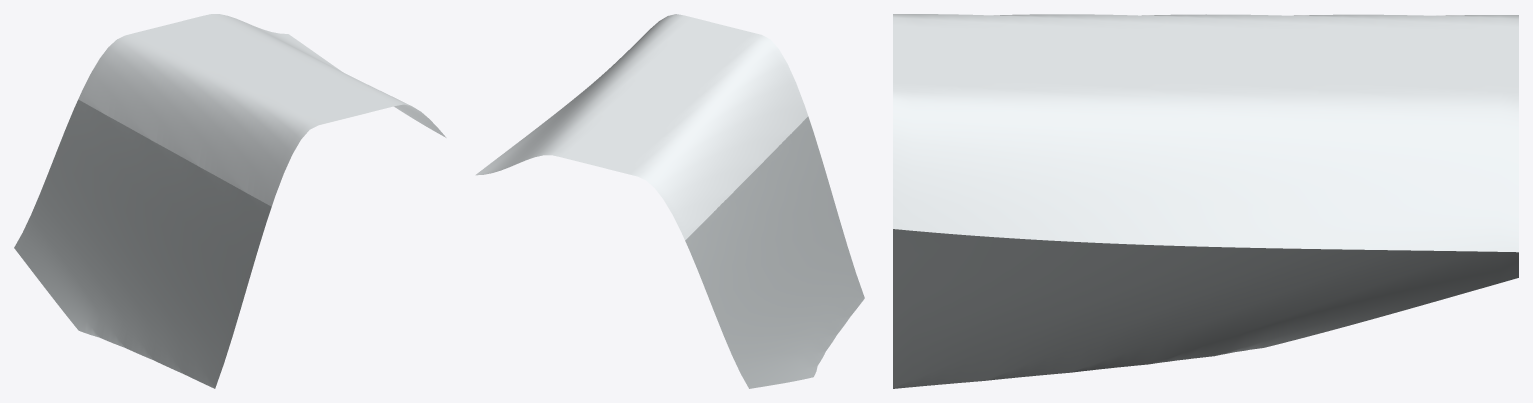
The model's file is alpine-12-10.glb.
3 renders of one model, left to right at view 1: azimuth 30°, elevation 25°; view 2: azimuth 150°, elevation 25°; view 3: azimuth 270°, elevation 25°, orthographic. The views are drawn at different scales.
Parts seen in each view (by area): view 1: alpine-12-10; view 2: alpine-12-10; view 3: alpine-12-10.
Part boxes in pixels (x1,y1,x2,y2): alpine-12-10: [14, 14, 446, 388]; alpine-12-10: [475, 14, 864, 388]; alpine-12-10: [893, 14, 1518, 388].
Size of the model in its own units: 256 by 213 by 256.
2 materials, 2 textured.
